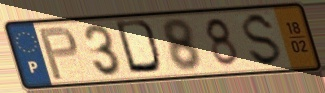3: (83, 22, 121, 79)
8: (160, 16, 205, 75), (204, 17, 242, 70)
D: (113, 18, 166, 77)
P: (36, 25, 80, 82)
S: (241, 11, 285, 70)
